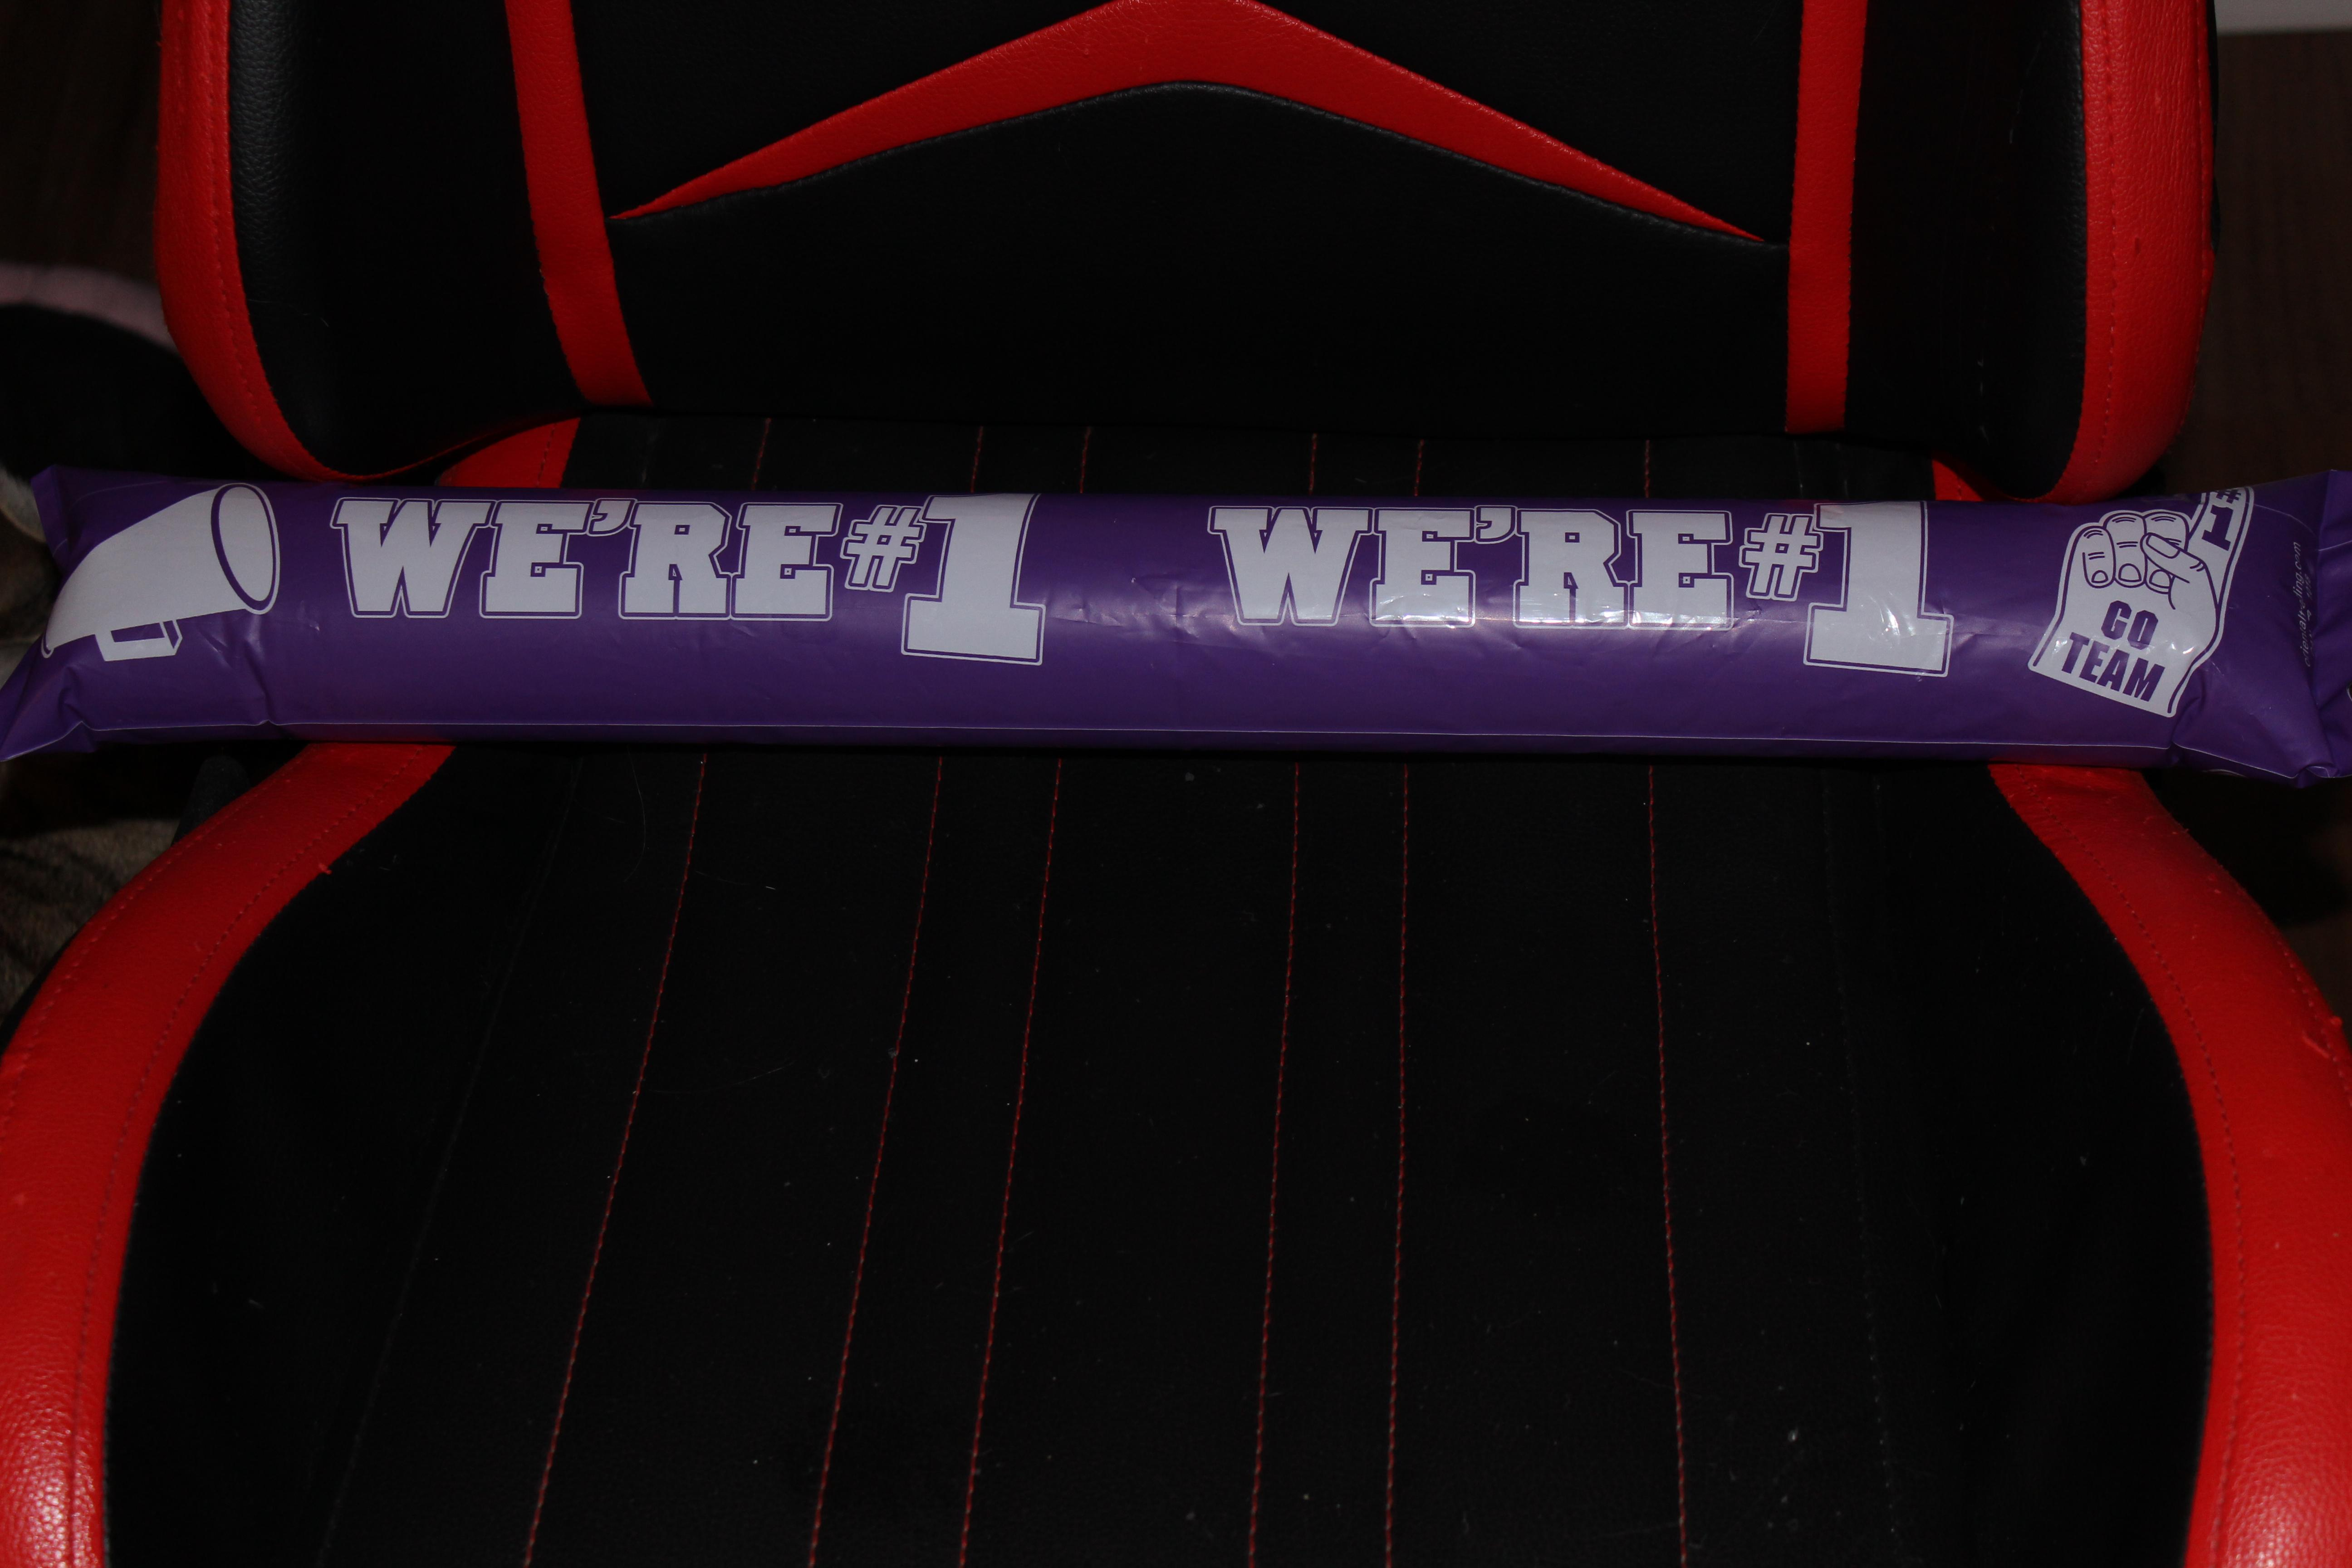noisemaker: (5, 371, 2347, 866)
